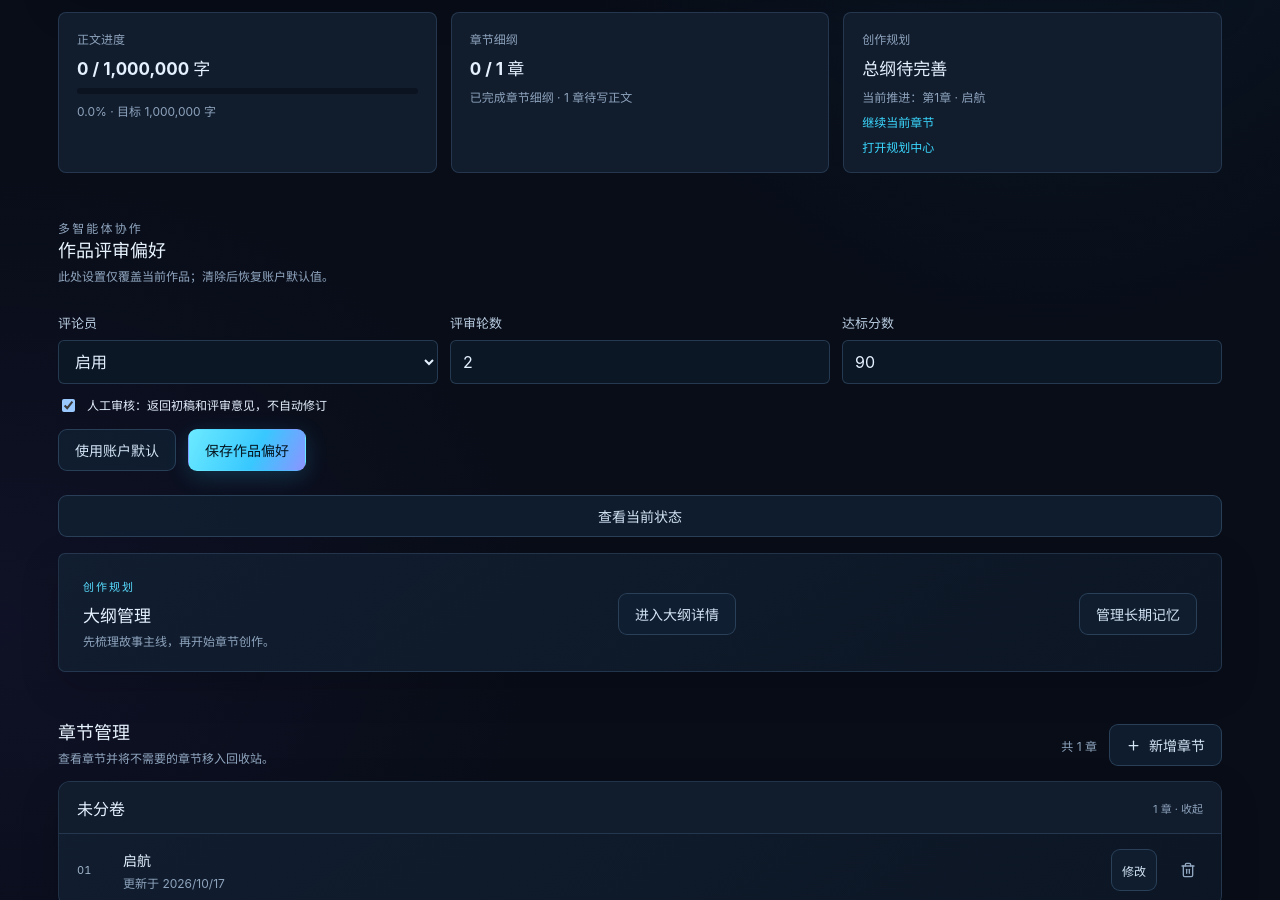
Scenario: 作品详情页 › 作品评审覆盖可以清除并回到账户默认值
(page scrolled)
Expected: the heading "作品评审偏好" is shown, [58,240,166,261]
Expected: the dropdown labelled "评论员" shows "启用", [58,340,438,384]
Click the button "使用账户默认": (117, 450) [58,429,176,471]
(page scrolled)
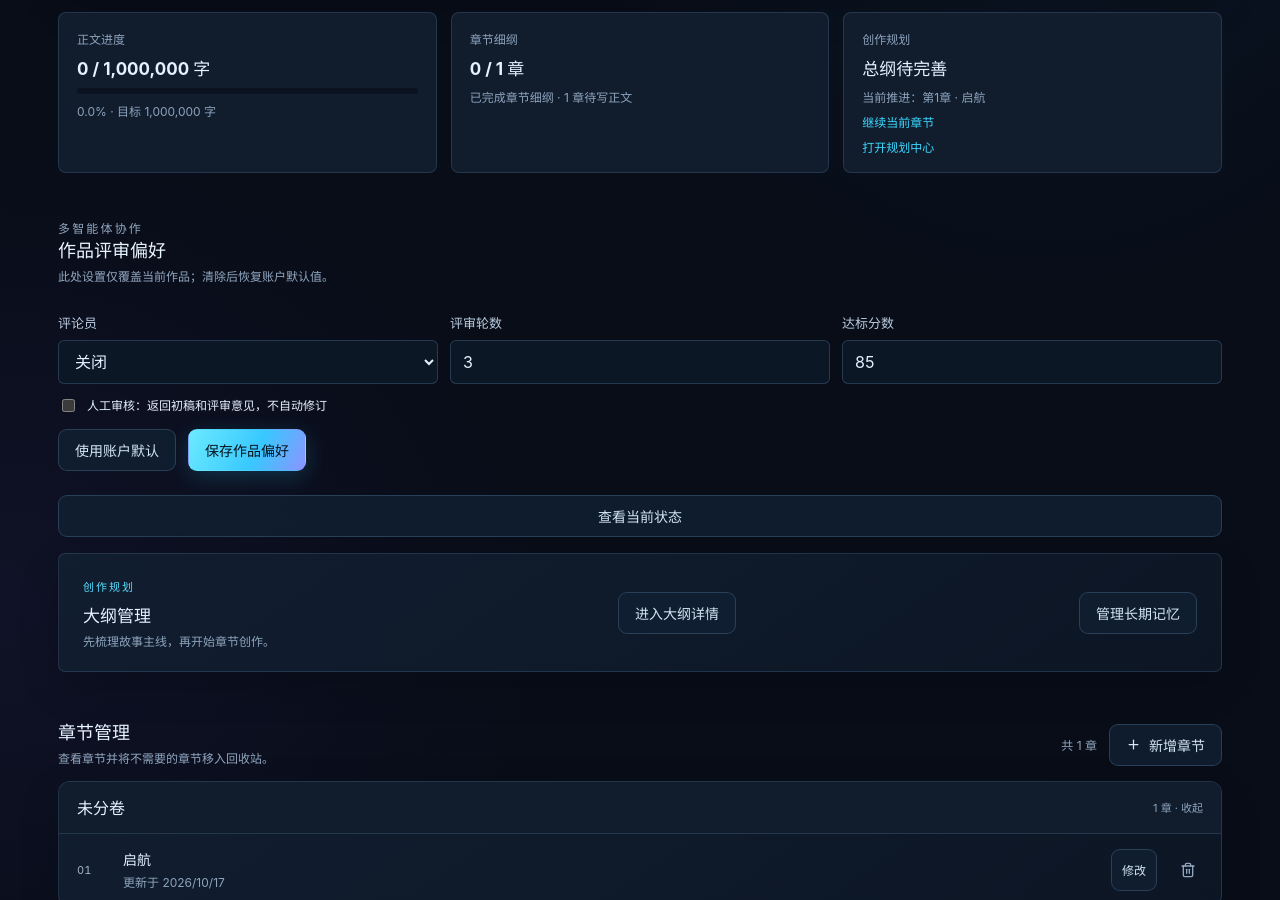
Now the dropdown labelled "评论员" shows "关闭", box [58,340,438,384]
